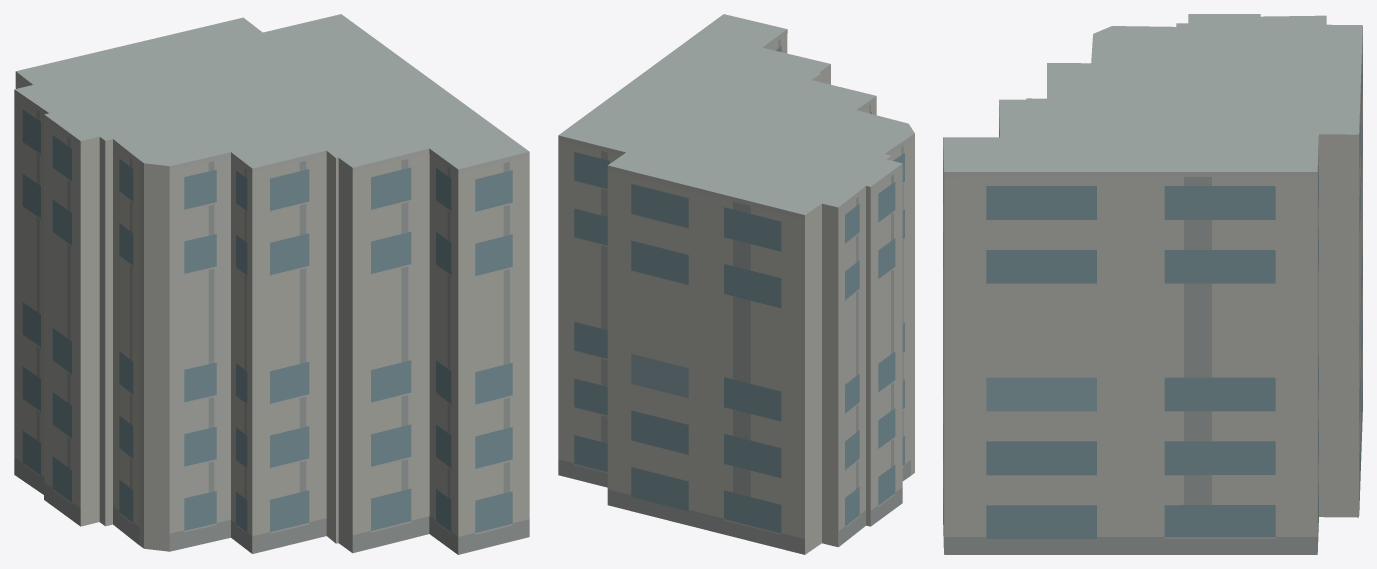
File: survey-upis-32690849.glb
The picture shows the model from 3 angles, left to right: view 1: azimuth 30°, elevation 25°; view 2: azimuth 150°, elevation 25°; view 3: azimuth 270°, elevation 25°; orthographic projection. The views are drawn at different scales.
Parts seen in each view (by area): view 1: survey-upis-32690849.tmp; view 2: survey-upis-32690849.tmp; view 3: survey-upis-32690849.tmp.
Part boxes in pixels (box(x1,y1,x2,y2)): survey-upis-32690849.tmp: box(14, 14, 529, 554); survey-upis-32690849.tmp: box(558, 14, 914, 554); survey-upis-32690849.tmp: box(943, 14, 1362, 554).
Size of the model in its own units: 16.08 by 18.15 by 18.04.
